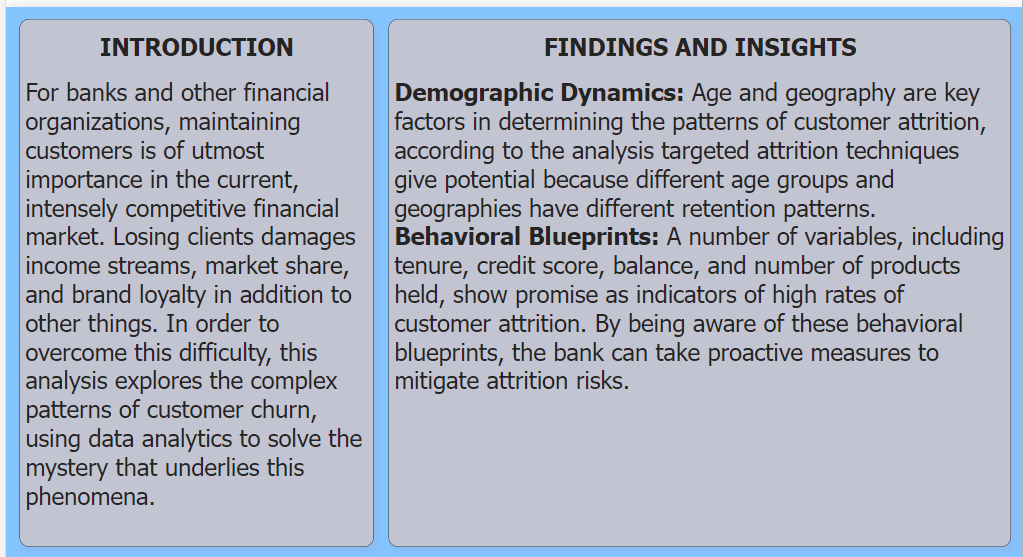

Layout of this report page (visuals, bound fields, positions):
{"tool":"powerbi","page":{"name":"INTRODUCTION AND DISCUSSION","canvas":[2280,1240],"ordinal":1},"visuals":[{"type":"textbox","box":[30.3,26.9,794.4,1184.9],"z":1},{"type":"textbox","box":[858.4,26.9,1397,1184.9],"z":2}]}

Visuals, with their boxes in screenshot pixels (x1, y1, x2, y2), scaled from the page's 2280x1240 canvas onto the 1023x557 screenshot:
textbox: 14:12:370:544
textbox: 385:12:1012:544
